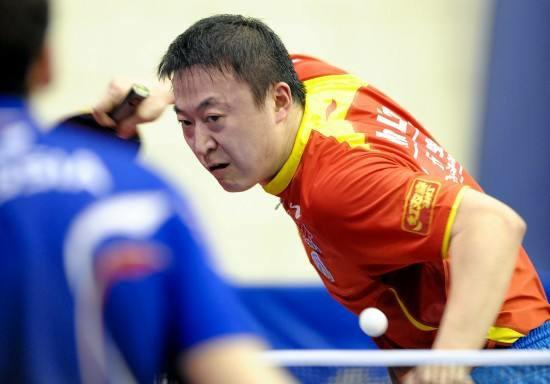ball: (355, 302, 388, 340)
